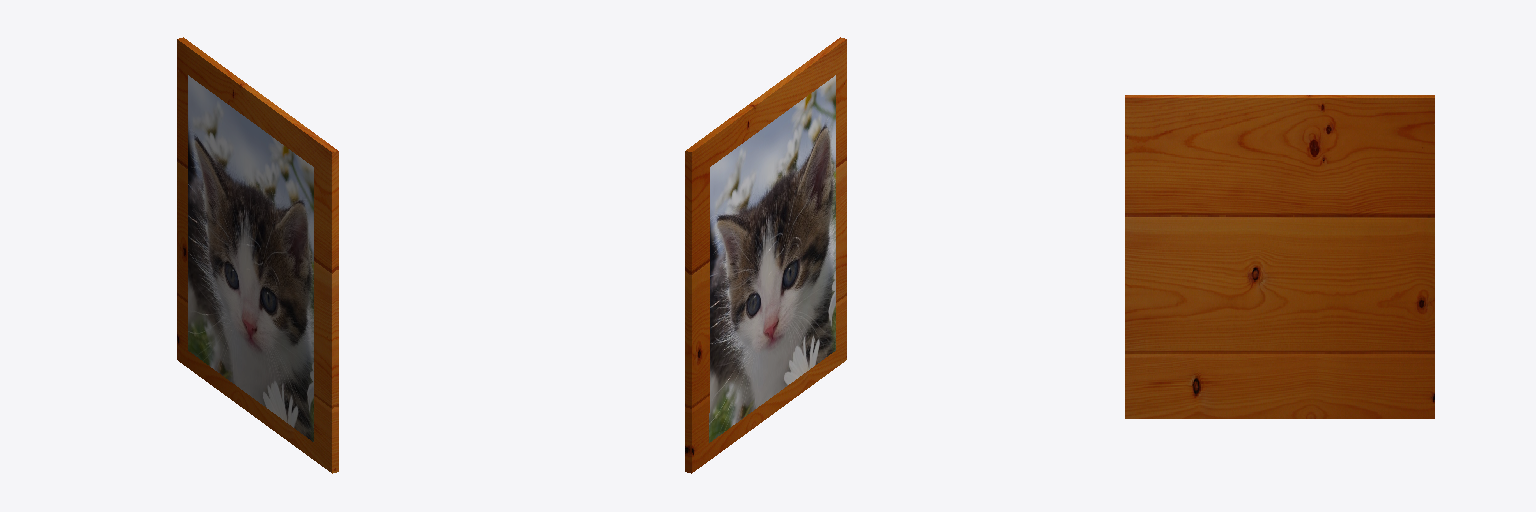
3 views of the same model, side by side, from view 1: azimuth 30°, elevation 25°; view 2: azimuth 150°, elevation 25°; view 3: azimuth 270°, elevation 25° (orthographic).
Parts seen in each view (by area): view 1: Plane, Cube; view 2: Plane, Cube; view 3: Cube.
Part boxes in pixels (bbox=[...]): Plane: bbox=[188, 75, 313, 441]; Cube: bbox=[177, 37, 338, 473]; Plane: bbox=[709, 75, 835, 442]; Cube: bbox=[685, 37, 846, 473]; Cube: bbox=[1125, 95, 1434, 418].
Size of the model in its own units: 0.1302 by 3.79 by 3.32.
2 materials, 2 textured.